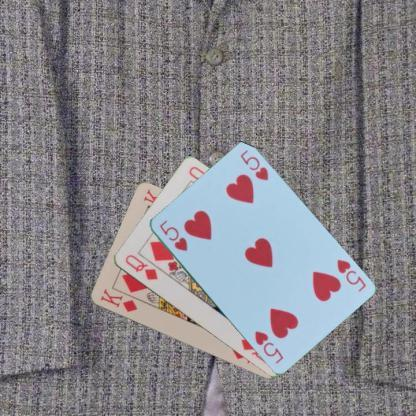5h: (334, 256, 367, 293), (155, 218, 188, 252)
Kd: (97, 285, 139, 314)
Qd: (122, 252, 159, 281)
